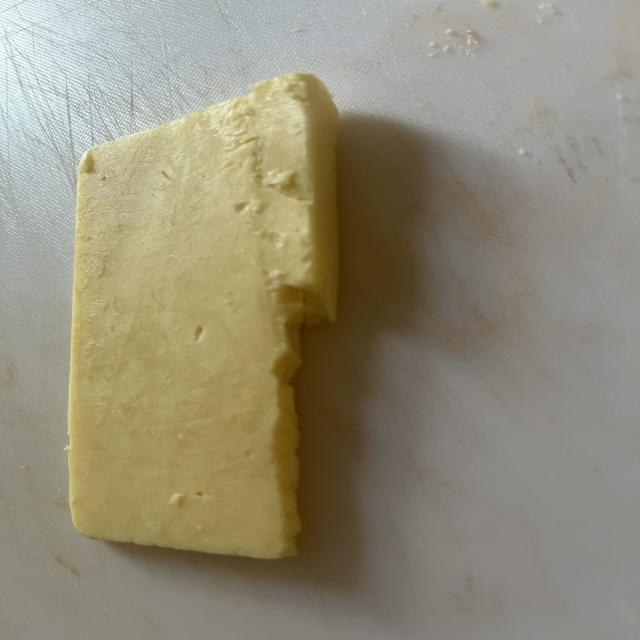cheese: (68, 73, 338, 558)
